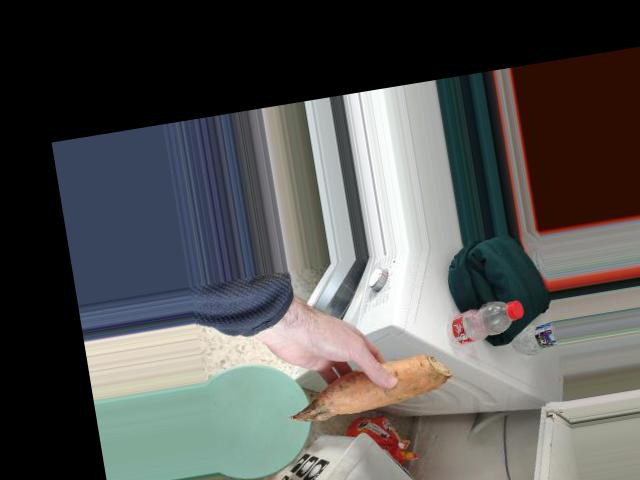sweet_potato: (282, 354, 444, 425)
